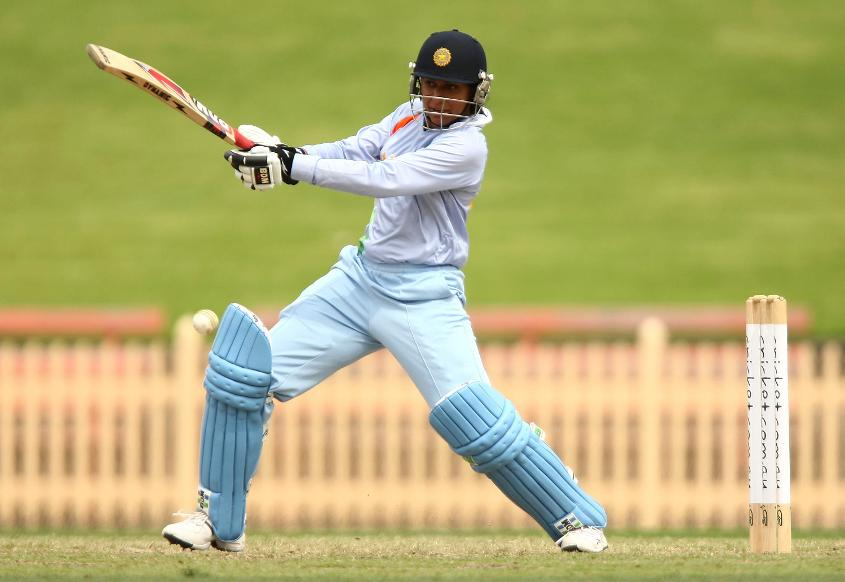LeftElbow: (356, 143, 403, 222)
LeftShoulder: (431, 126, 499, 194)
